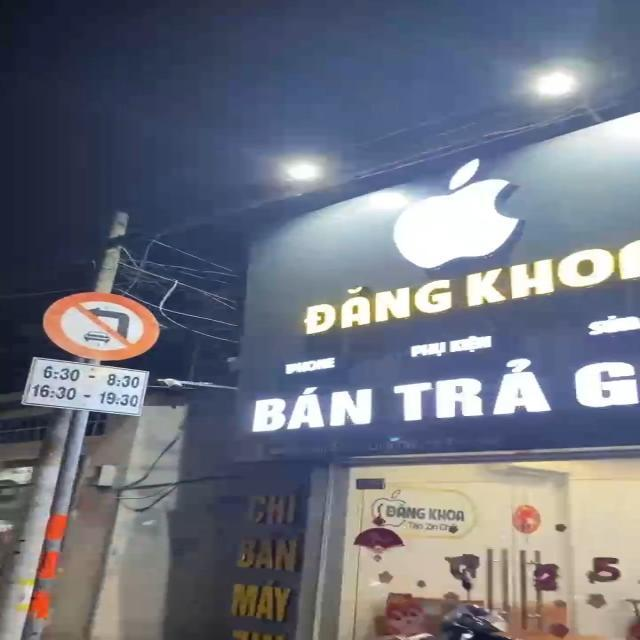123a-cam-re-trai: (38, 290, 158, 362)
